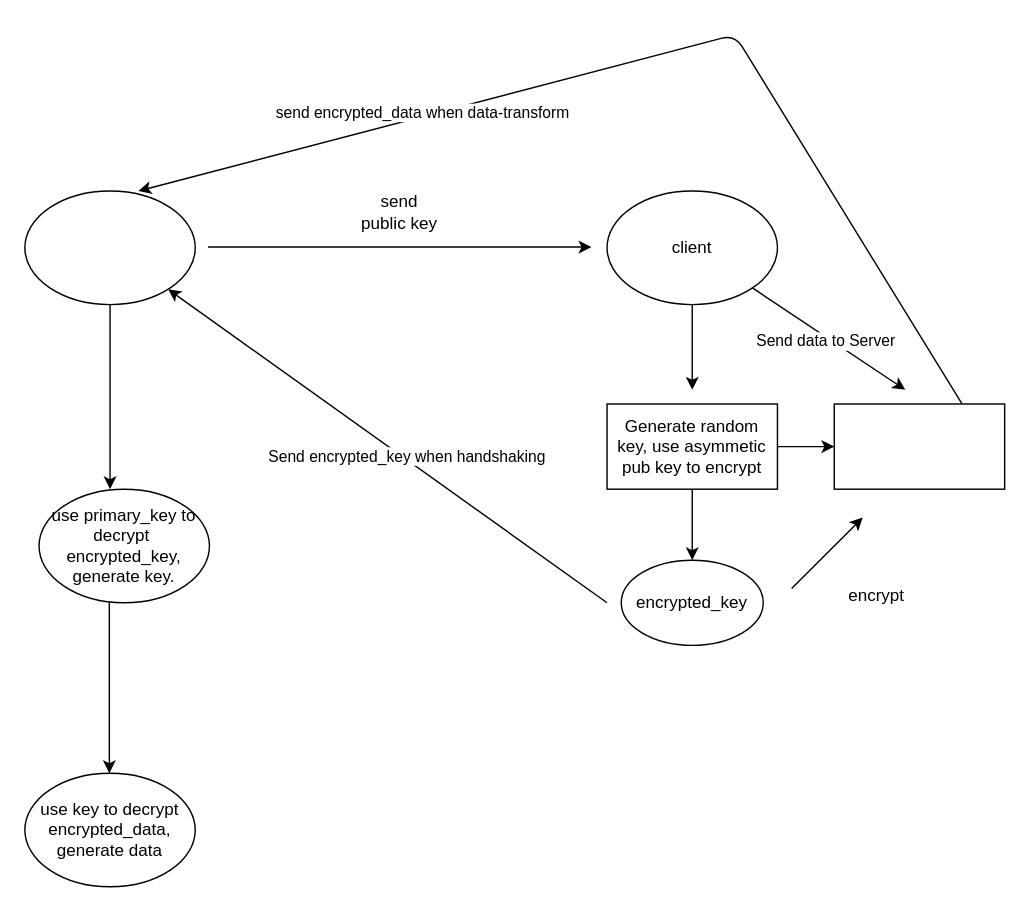
Some shapes in this 1030 by 912 pixel diagram are drawn without their labels. The shapes that lost their labels are listed below. From the top down, each one's box as (x1, y1, x2, y2) in pixels, then its label:
(23, 190, 195, 305): Server
(833, 403, 1005, 489): data
